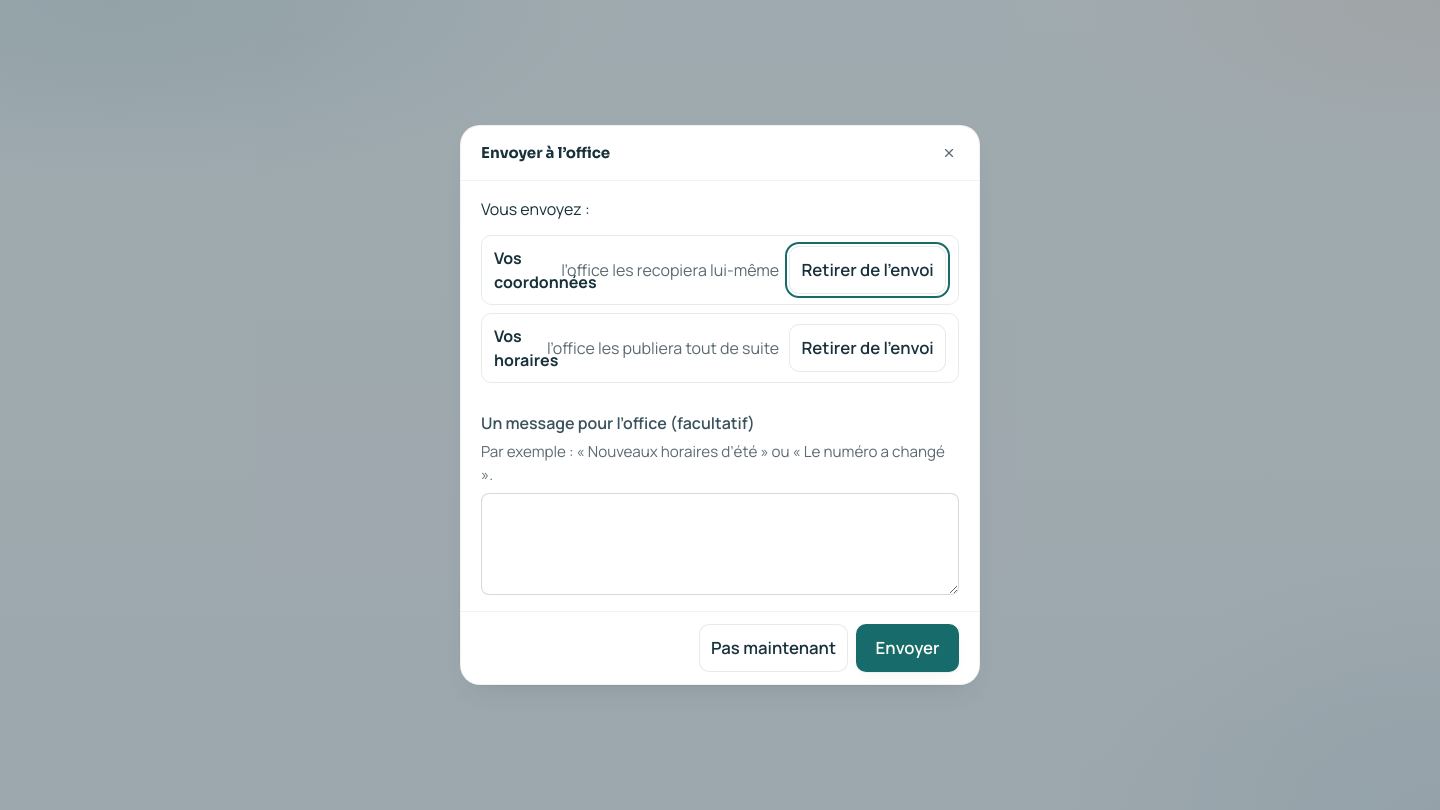
Test: PortalSendModal › bloque l’envoi si le protocole serveur est incompatible
Step 1. Click the button "Envoyer" → (908, 648), box [856,624,959,672]
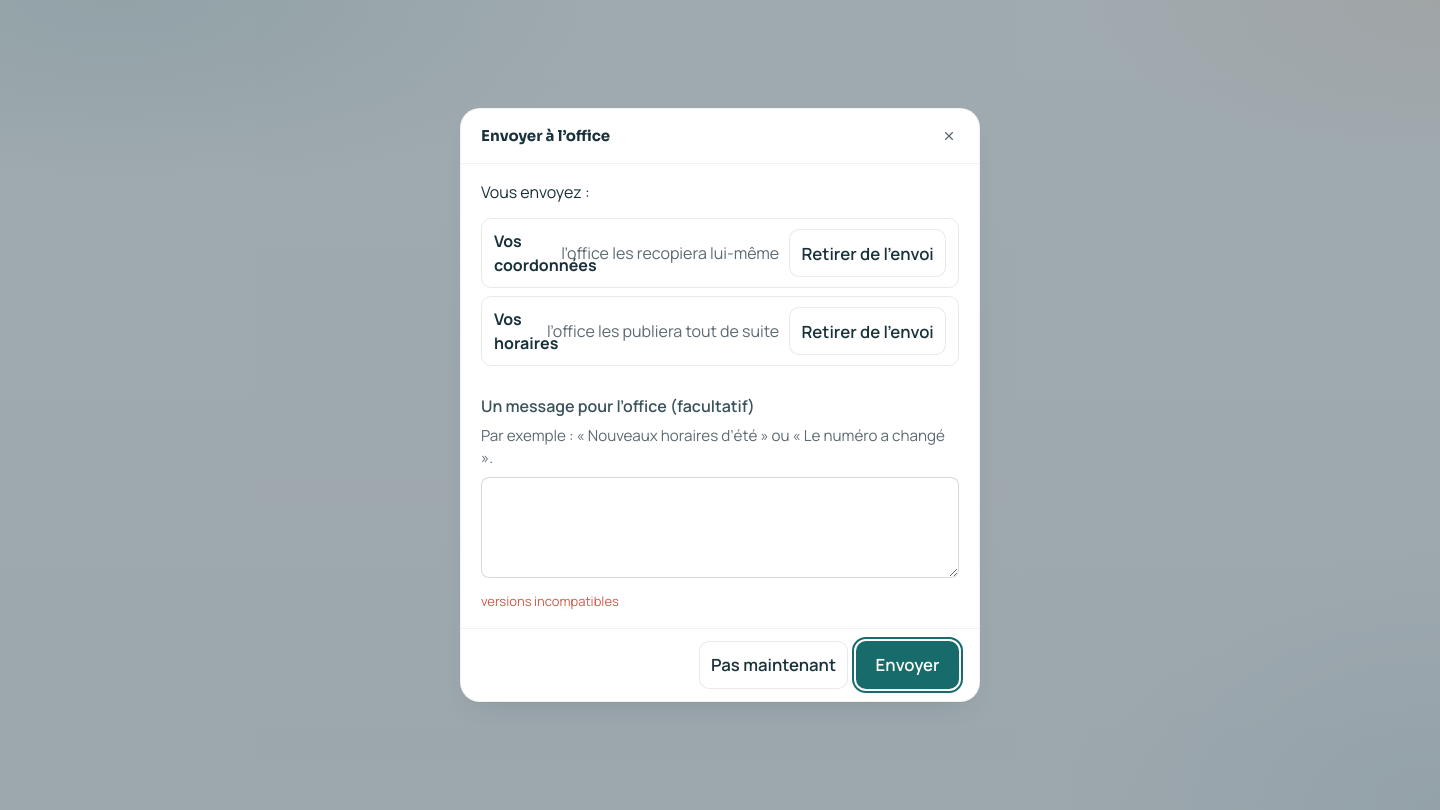
Expected: the text "versions incompatibles" is shown, [481,592,619,610]
